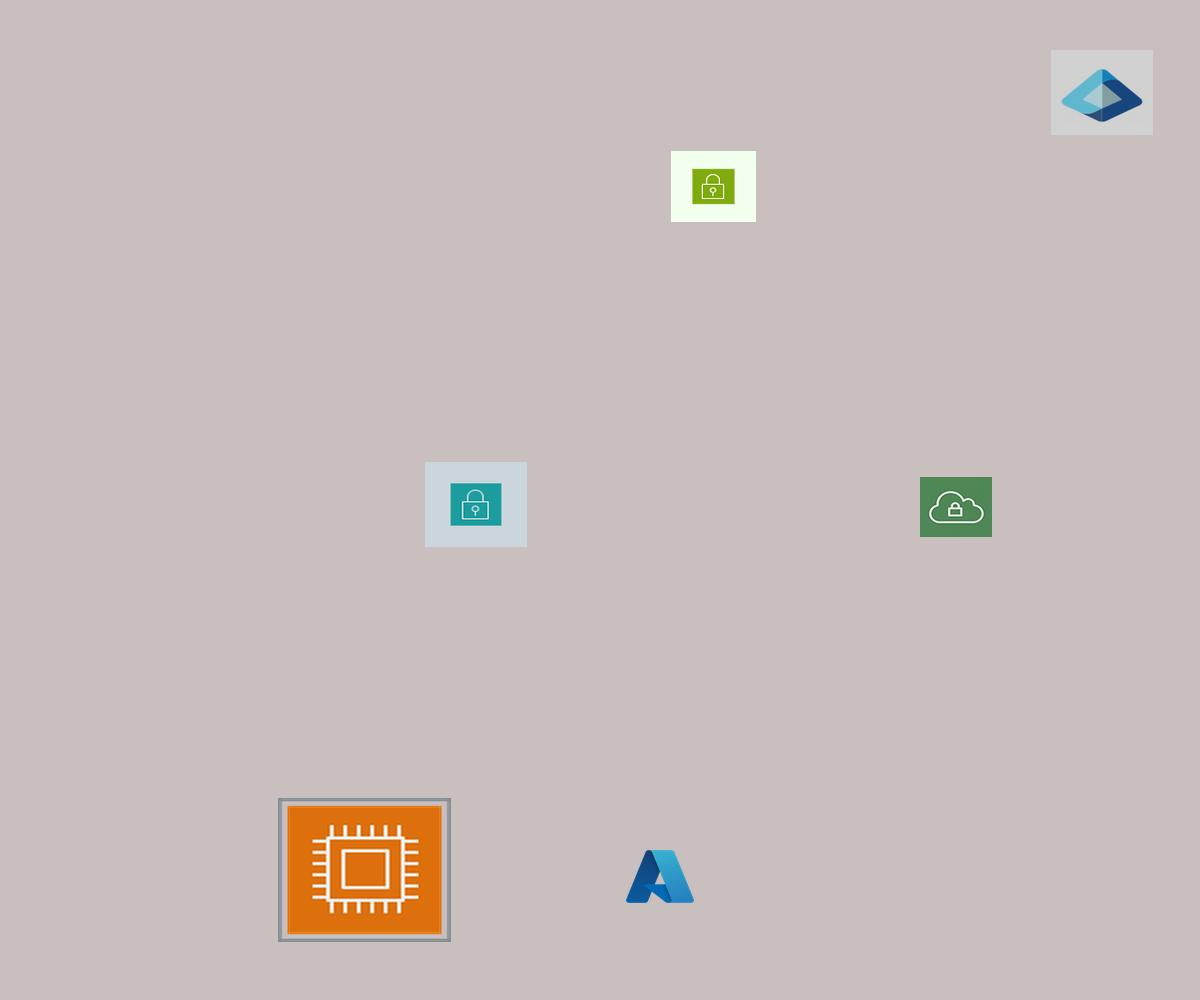AWS-Category_Compute: (278, 798, 451, 942)
AWS-Private-subnet: (425, 462, 527, 547)
AWS-Private_vpc: (920, 477, 992, 537)
AWS-Public-subnet: (671, 151, 756, 222)
Azure_microsoft_entra: (1051, 50, 1153, 135)
Azure_services: (623, 846, 697, 907)
